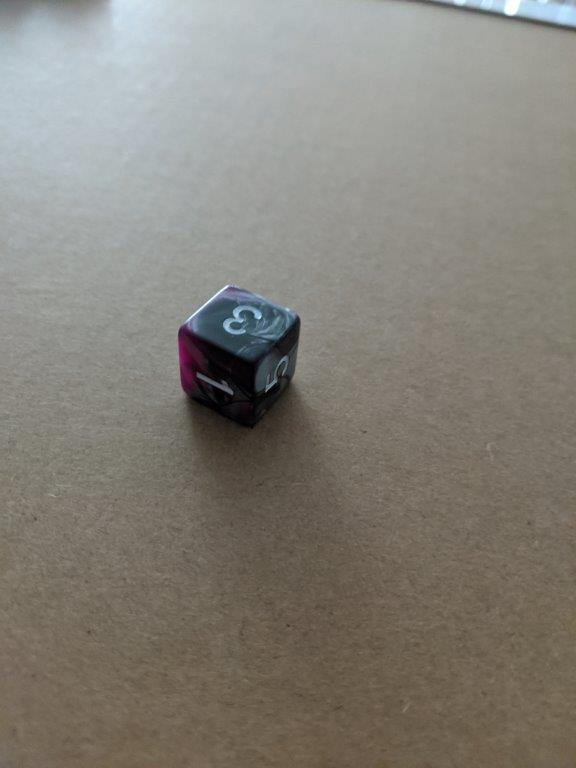d6-3: (174, 283, 303, 427)
